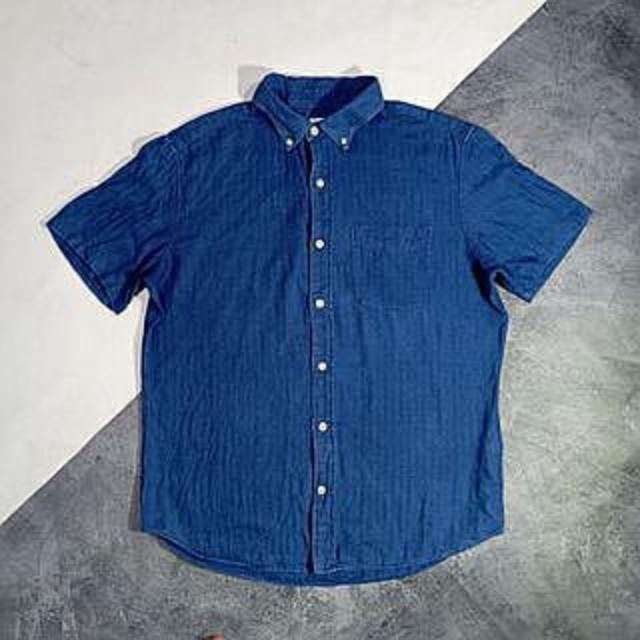SHIRT: (32, 59, 599, 591)
